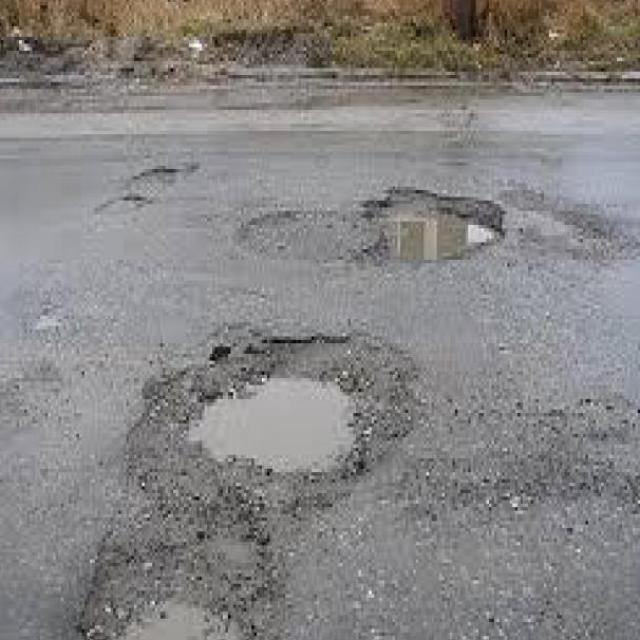Lubang: (136, 340, 427, 511), (86, 509, 270, 640), (363, 196, 499, 268)
